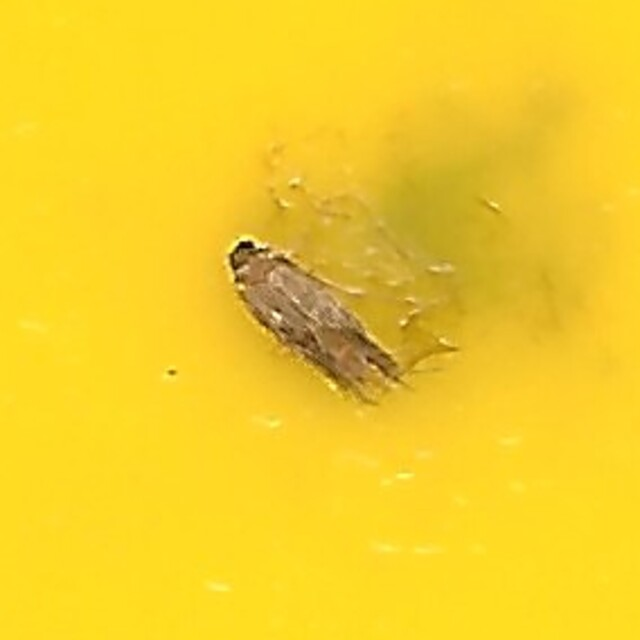Trichoptera: (225, 234, 415, 406)
